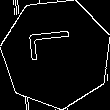L_E: (30, 35, 83, 72)
